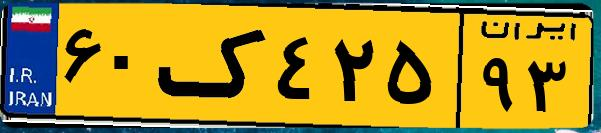0: (110, 28, 158, 98)
2: (330, 28, 385, 110)
3: (525, 38, 570, 115)
4: (270, 28, 330, 110)
5: (385, 28, 445, 110)
6: (57, 26, 110, 100)
9: (475, 38, 525, 113)
ک: (158, 12, 270, 120)
